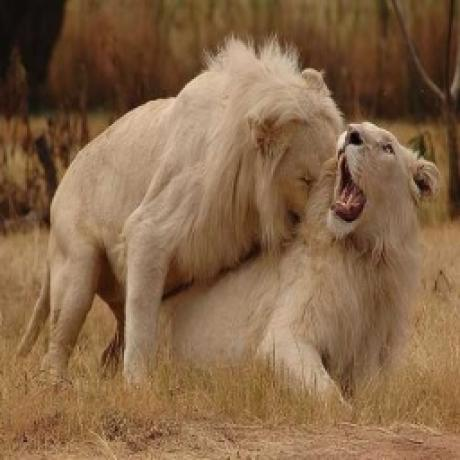Lion: (18, 40, 341, 386), (164, 120, 445, 389)
